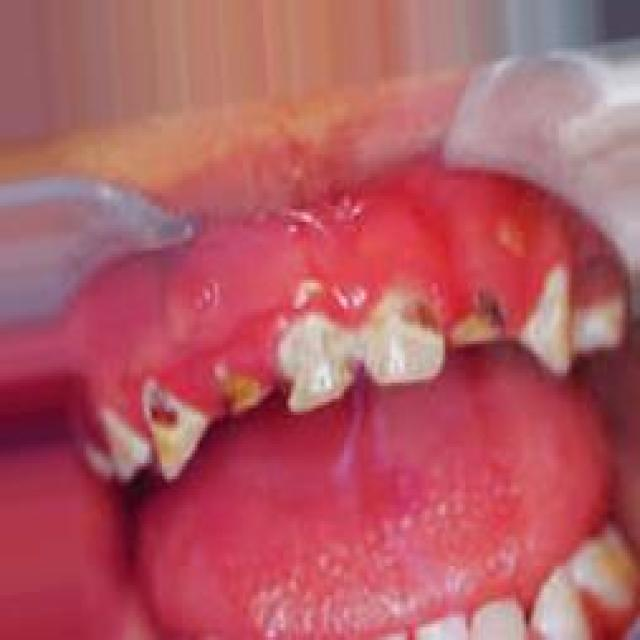caries: (275, 324, 363, 417), (449, 284, 511, 352), (217, 367, 270, 424), (395, 295, 450, 342), (140, 382, 183, 438)
